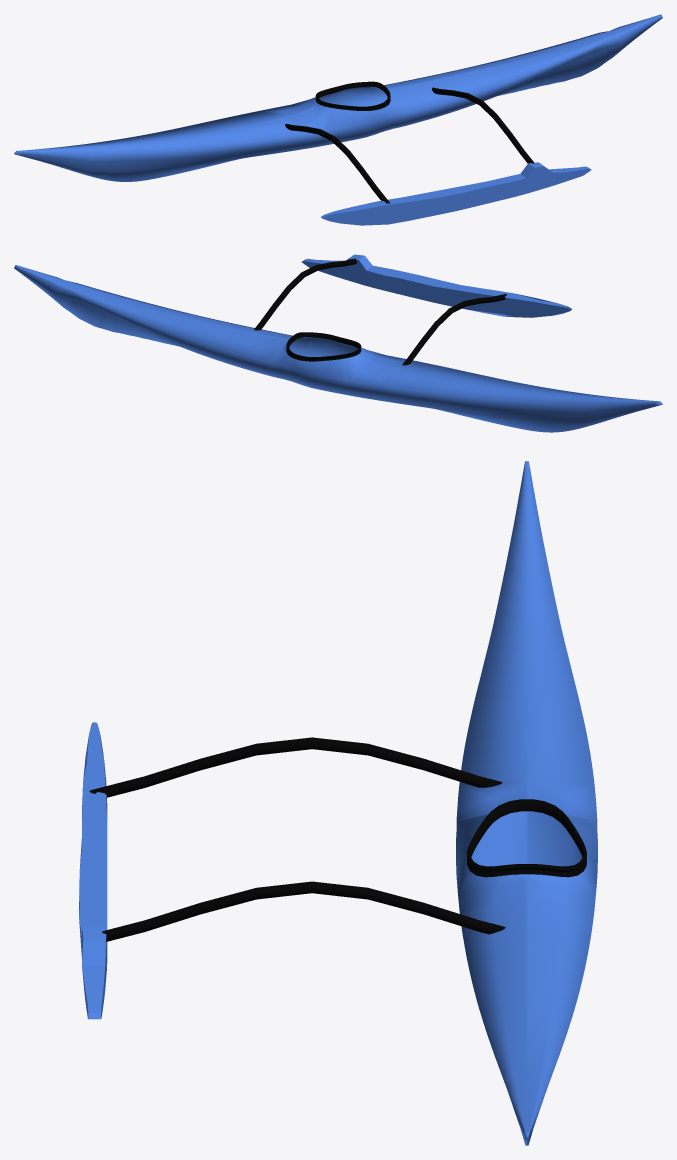
File: vaa3.glb
3 views of the same model, one above another, from view 1: azimuth 30°, elevation 25°; view 2: azimuth 150°, elevation 25°; view 3: azimuth 270°, elevation 25° (orthographic). The views are drawn at different scales.
Visible parts, largest first — view 1: DEFAULT_curve_.001_Mesh.001; view 2: DEFAULT_curve_.001_Mesh.001; view 3: DEFAULT_curve_.001_Mesh.001.
Part boxes in pixels (left/top/right/bottom): DEFAULT_curve_.001_Mesh.001: left=14, top=14, right=662, bottom=225; DEFAULT_curve_.001_Mesh.001: left=14, top=254, right=662, bottom=432; DEFAULT_curve_.001_Mesh.001: left=79, top=461, right=597, bottom=1145.
Bounding box in the file's own units: 6.53 × 0.6104 × 2.26.
